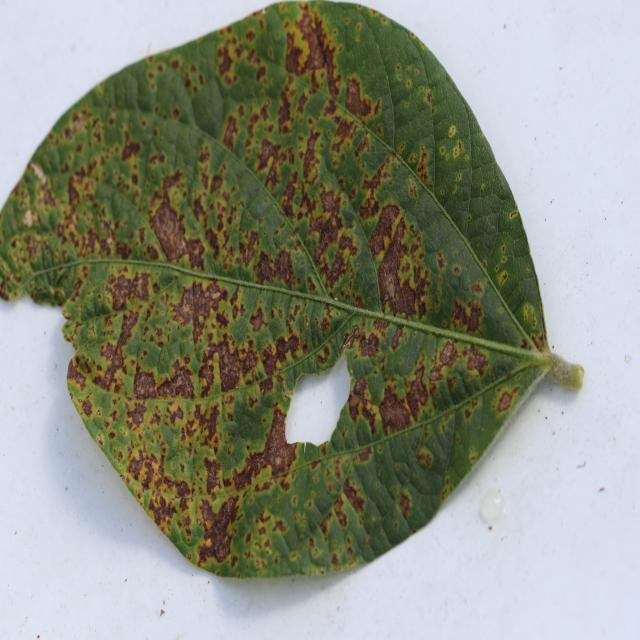Bacterial_Blight: (206, 14, 289, 121), (240, 114, 315, 227), (375, 209, 425, 314), (149, 179, 206, 266), (57, 181, 113, 256), (241, 410, 296, 486), (287, 3, 332, 79), (311, 193, 351, 278), (196, 496, 239, 566), (173, 279, 223, 334), (199, 334, 243, 395), (125, 437, 168, 494), (315, 22, 343, 99), (368, 203, 401, 261), (108, 268, 153, 310), (360, 156, 393, 204), (402, 364, 430, 420), (378, 388, 411, 434), (155, 363, 196, 400), (437, 125, 469, 172), (98, 346, 129, 394), (449, 296, 485, 335), (345, 77, 374, 121), (115, 306, 142, 350), (148, 491, 179, 528), (302, 131, 323, 183), (255, 135, 281, 175), (273, 247, 296, 286), (66, 356, 89, 393), (202, 456, 224, 494), (342, 477, 364, 514), (132, 369, 158, 399), (202, 404, 221, 443), (254, 250, 275, 284), (465, 346, 489, 375), (217, 43, 236, 79), (357, 330, 381, 358), (126, 400, 149, 429), (416, 145, 432, 185), (128, 450, 147, 482), (121, 133, 141, 162), (438, 340, 458, 367), (261, 348, 279, 378), (249, 308, 267, 333), (496, 390, 513, 414), (398, 491, 412, 518), (530, 331, 545, 353), (71, 114, 86, 134), (80, 398, 94, 417), (22, 209, 35, 228), (471, 280, 484, 295), (429, 368, 443, 381), (499, 271, 508, 285), (96, 433, 104, 446), (448, 125, 456, 137), (510, 209, 518, 219), (453, 264, 460, 274), (458, 141, 463, 150)
Soybean: (0, 0, 582, 586)
